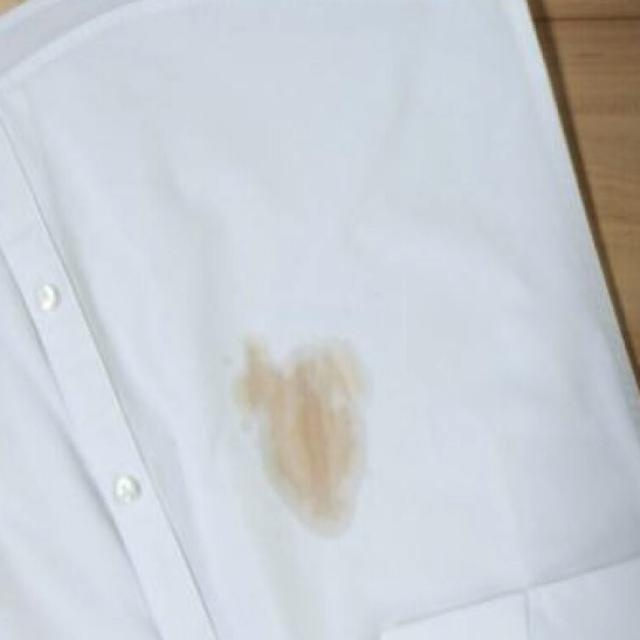coffee: (236, 337, 369, 537)
